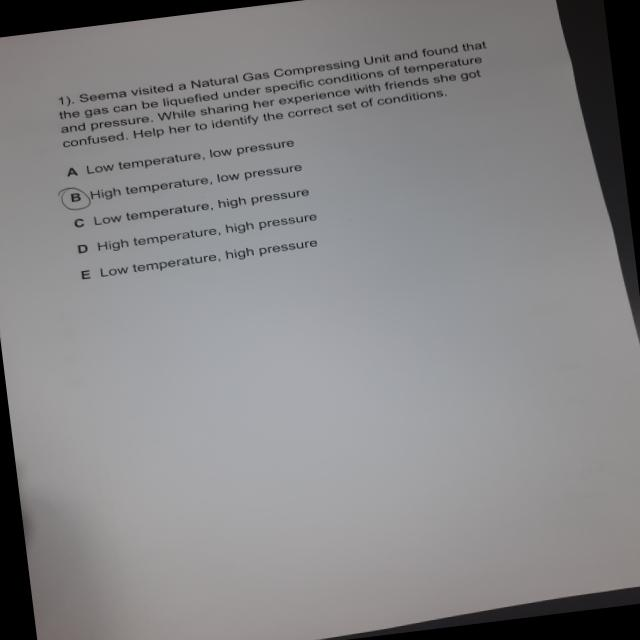B: (55, 184, 99, 218)
